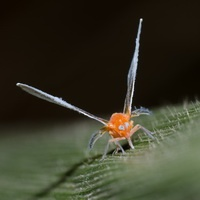insect: (16, 18, 156, 159)
